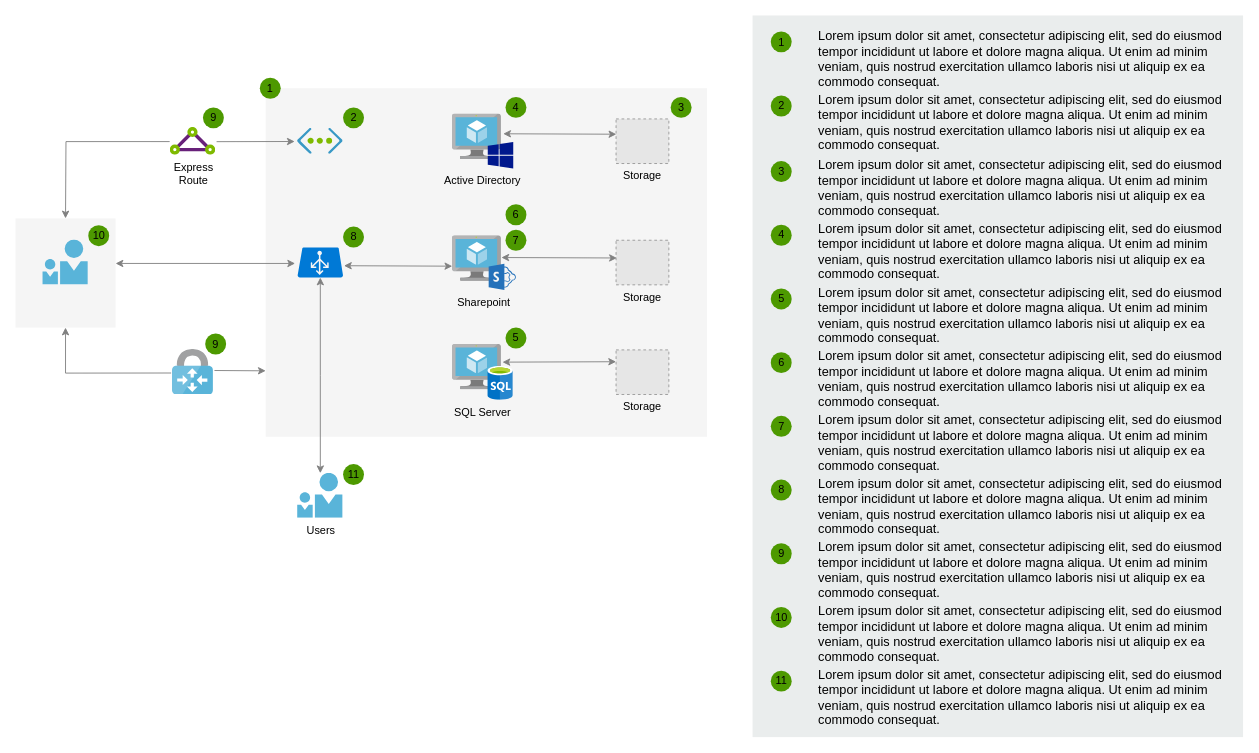
This 1259x753 diagram has some shape labels left out. Grey dashed boxes stand in for pictures. The centre of each missing label's shape, as x and y in pixels:
"Load Balancer" goes at [320,262].
"On-Premises Users" goes at [65,262].
"Virtual Network" goes at [320,141].
"VPN Gateway" goes at [192,371].
